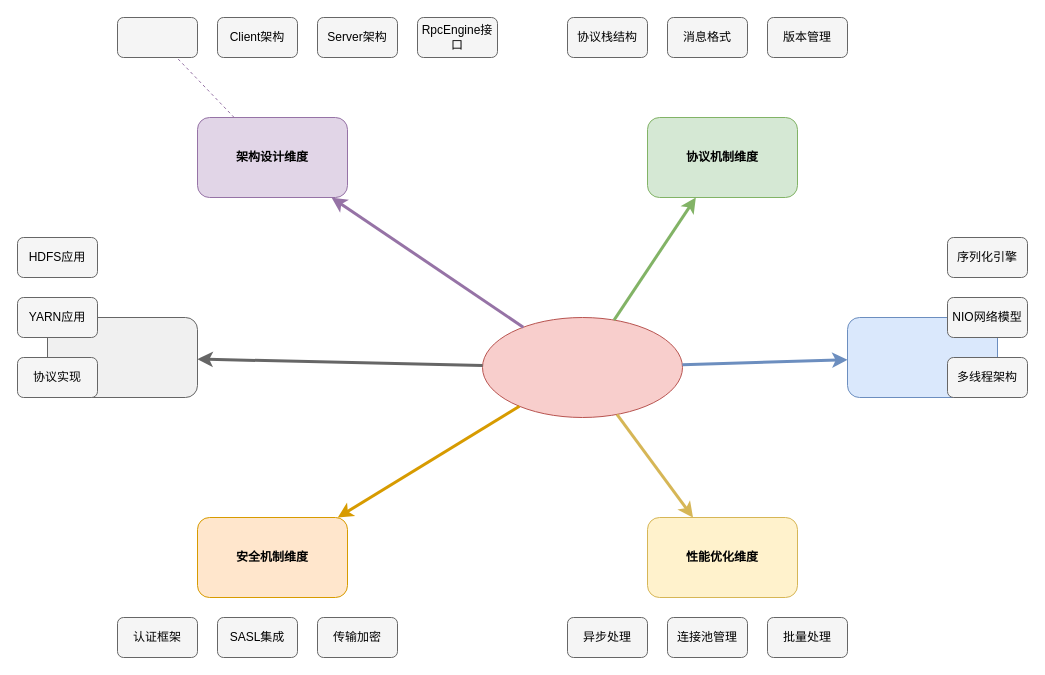
The diagram is 1045 pixels wide and 675 high, and some of its shapes have lost their labels. The shapes that lost their labels are listed below. From the top down, each one's box as (x1, y1, x2, y2) in pixels, then its label:
(116, 16, 198, 58): RPC类设计
(46, 316, 198, 398): 应用实践维度
(482, 316, 682, 418): Hadoop RPC 深度分析
(846, 316, 998, 398): 实现技术维度
